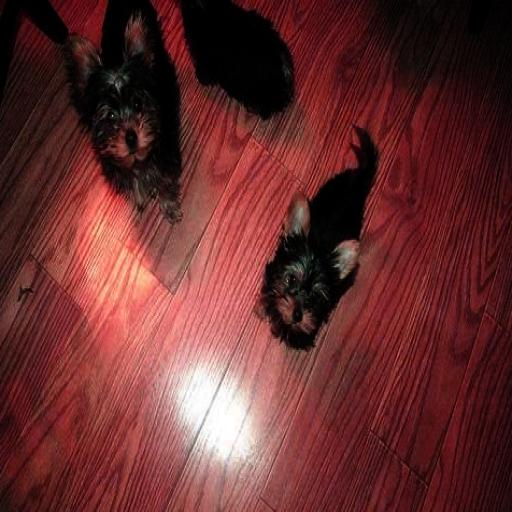dog_face: (264, 202, 362, 341), (66, 18, 152, 170)
